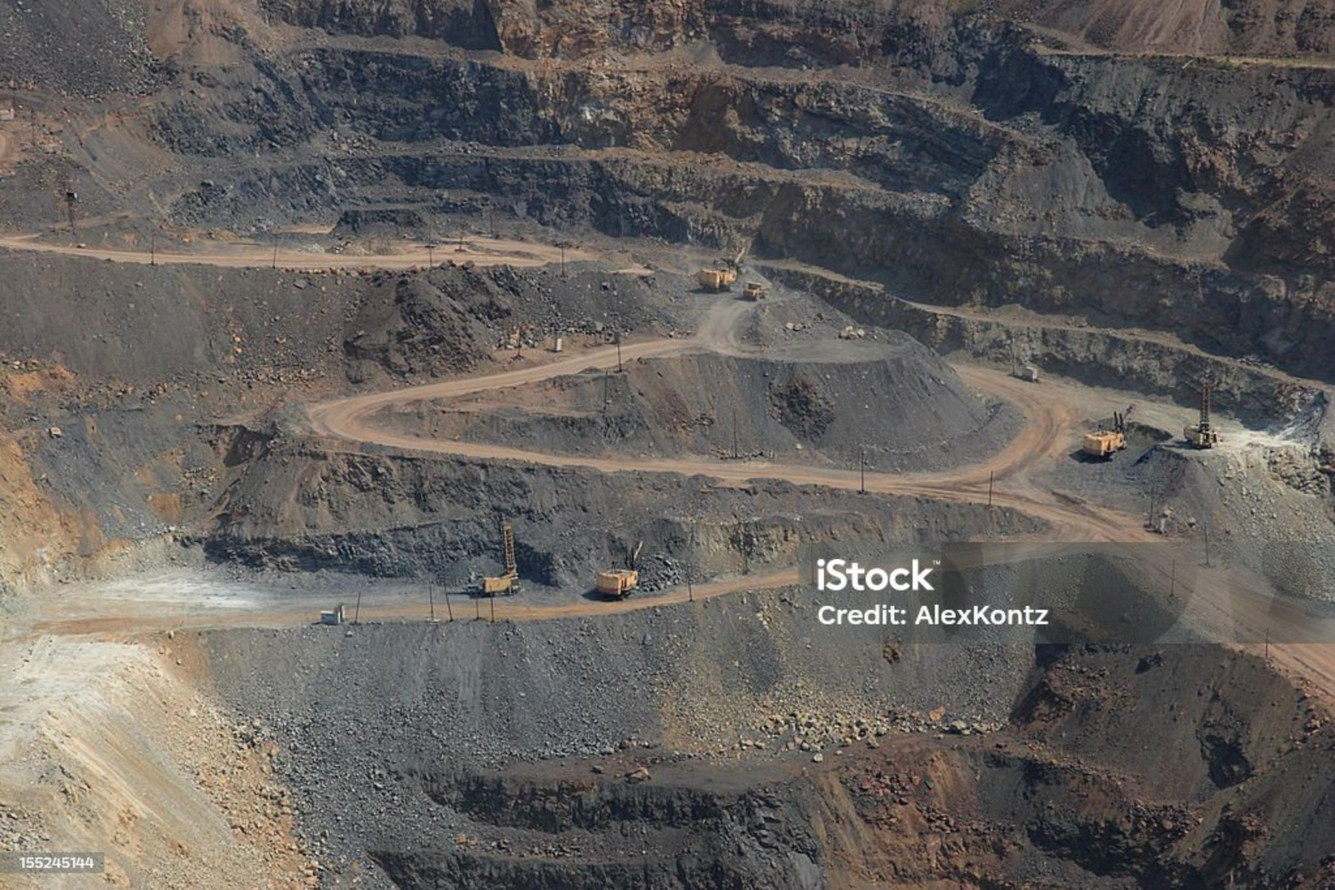benches: (306, 348, 860, 490), (864, 365, 1141, 555), (27, 572, 429, 637), (493, 567, 802, 620)
truck: (595, 553, 644, 599), (1080, 418, 1124, 462), (460, 571, 526, 592), (703, 259, 737, 288), (740, 280, 780, 300)
wall: (0, 0, 1334, 421)
